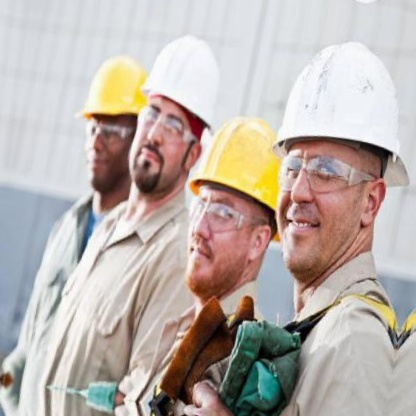white: (258, 26, 416, 189), (135, 26, 234, 127)
yellow: (181, 103, 290, 215), (68, 42, 151, 129)
